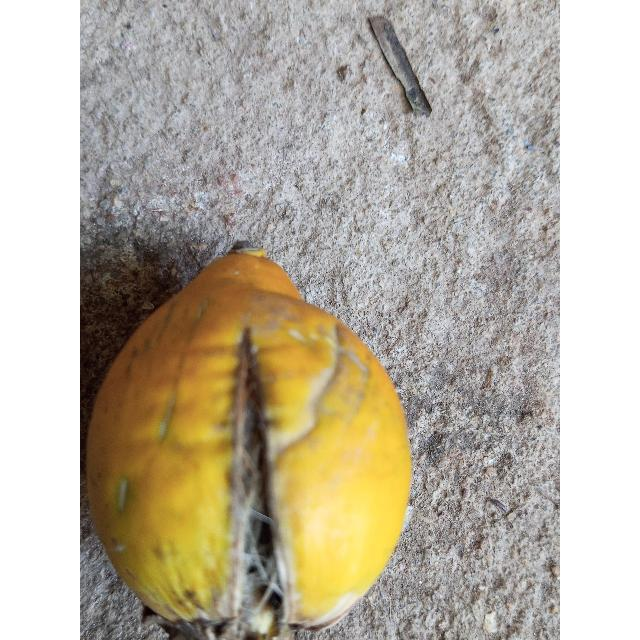damaged: (86, 247, 413, 640)
